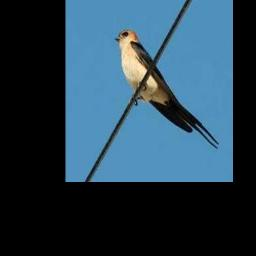Swallow: (114, 29, 219, 150)
